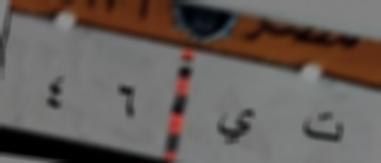4: (39, 70, 78, 113)
6: (110, 70, 150, 126)
taa: (287, 108, 354, 144)
yaa: (208, 100, 266, 146)
